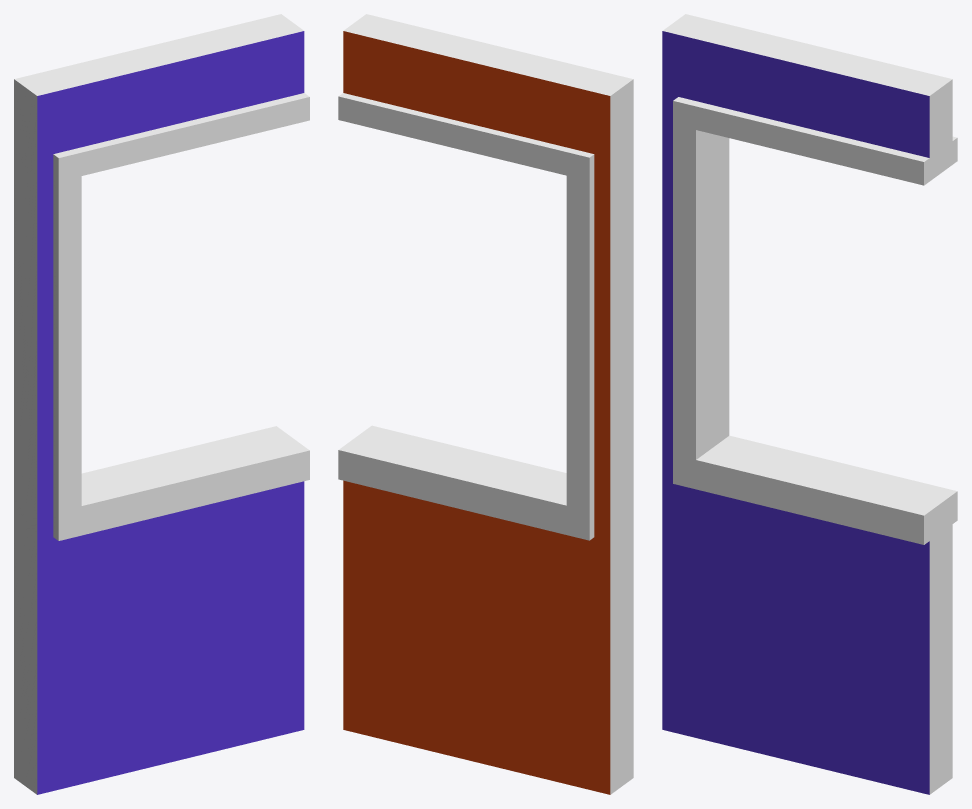
File: RightWindow.fbx
3 renders of one model, left to right at view 1: azimuth 30°, elevation 25°; view 2: azimuth 150°, elevation 25°; view 3: azimuth 330°, elevation 25°, orthographic.
Parts seen in each view (by area): view 1: SecondFace, MiddleFace; view 2: FirstFace, MiddleFace; view 3: SecondFace, MiddleFace.
Part boxes in pixels (<box>): SecondFace: <box>37,31,304,794</box>; MiddleFace: <box>14,14,309,794</box>; FirstFace: <box>343,31,610,794</box>; MiddleFace: <box>338,14,633,794</box>; SecondFace: <box>662,31,929,794</box>; MiddleFace: <box>663,14,957,794</box>.
Bounding box in the file's own units: 2 × 0.4327 × 5.
